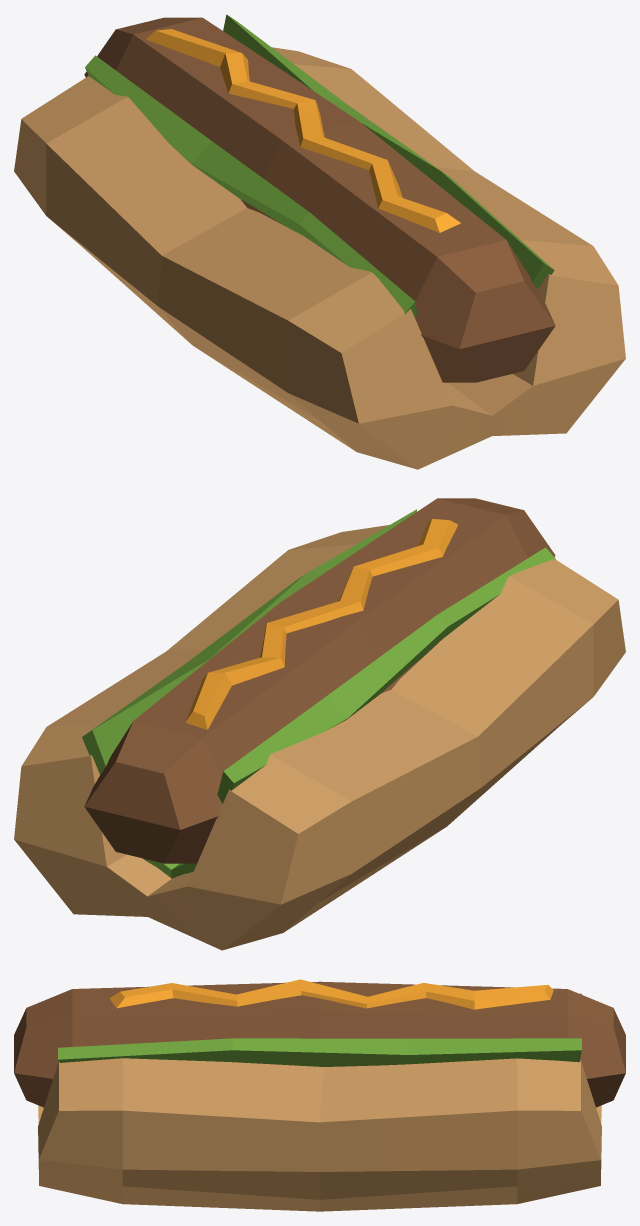
The model's file is food_hotdog.fbx.
3 views of the same model, one above another, from view 1: azimuth 30°, elevation 25°; view 2: azimuth 150°, elevation 25°; view 3: azimuth 270°, elevation 25° (orthographic). The views are drawn at different scales.
Parts seen in each view (by area): view 1: food_hotdog; view 2: food_hotdog; view 3: food_hotdog.
Part boxes in pixels (left/top/right/bottom): food_hotdog: left=14, top=14, right=625, bottom=469; food_hotdog: left=14, top=498, right=625, bottom=950; food_hotdog: left=14, top=979, right=625, bottom=1211.
Size of the model in its own units: 98.65 by 67.76 by 200.
